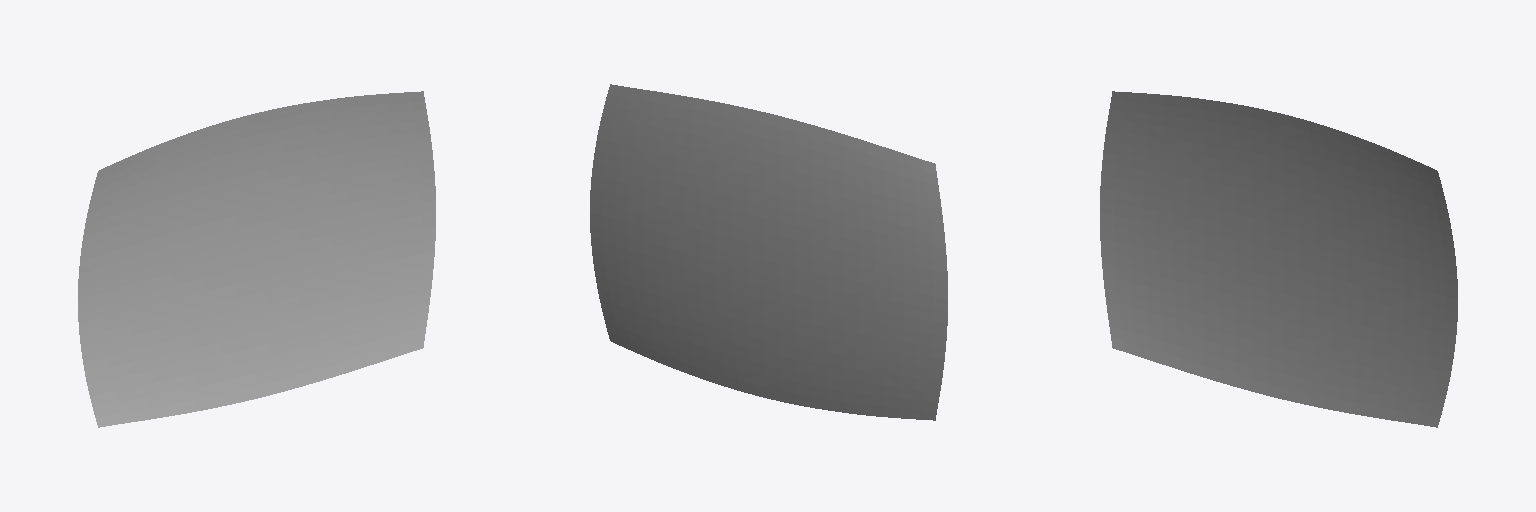
Rendered from GameScreen.obj.
3 views of the same model, side by side, from view 1: azimuth 30°, elevation 25°; view 2: azimuth 150°, elevation 25°; view 3: azimuth 330°, elevation 25° (orthographic).
Parts seen in each view (by area): view 1: Cube.001; view 2: Cube.001; view 3: Cube.001.
Boxes of the visible parts, box(x1,y1,x2,y2) form: Cube.001: box(78, 91, 435, 427); Cube.001: box(590, 84, 947, 420); Cube.001: box(1100, 91, 1457, 427).
Size of the model in its own units: 5.49 by 4.18 by 0.2565.